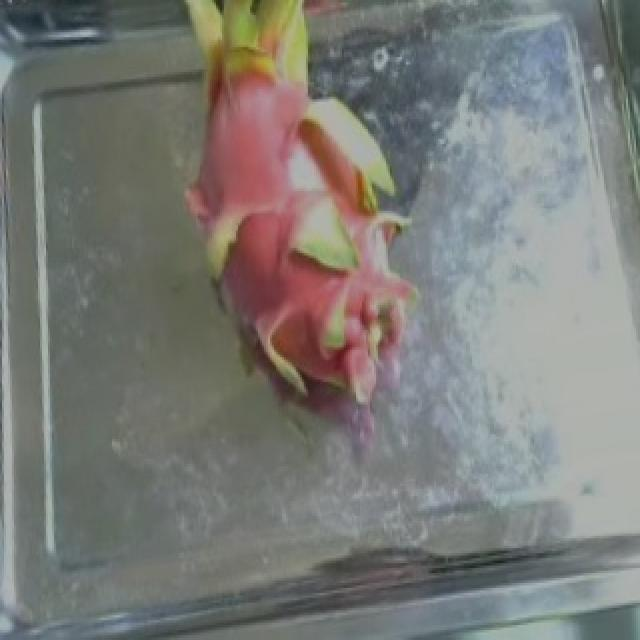fruit: (134, 2, 466, 454)
